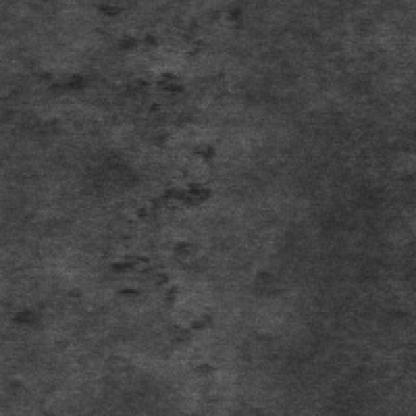rolled-in_scale: (108, 65, 218, 339)
